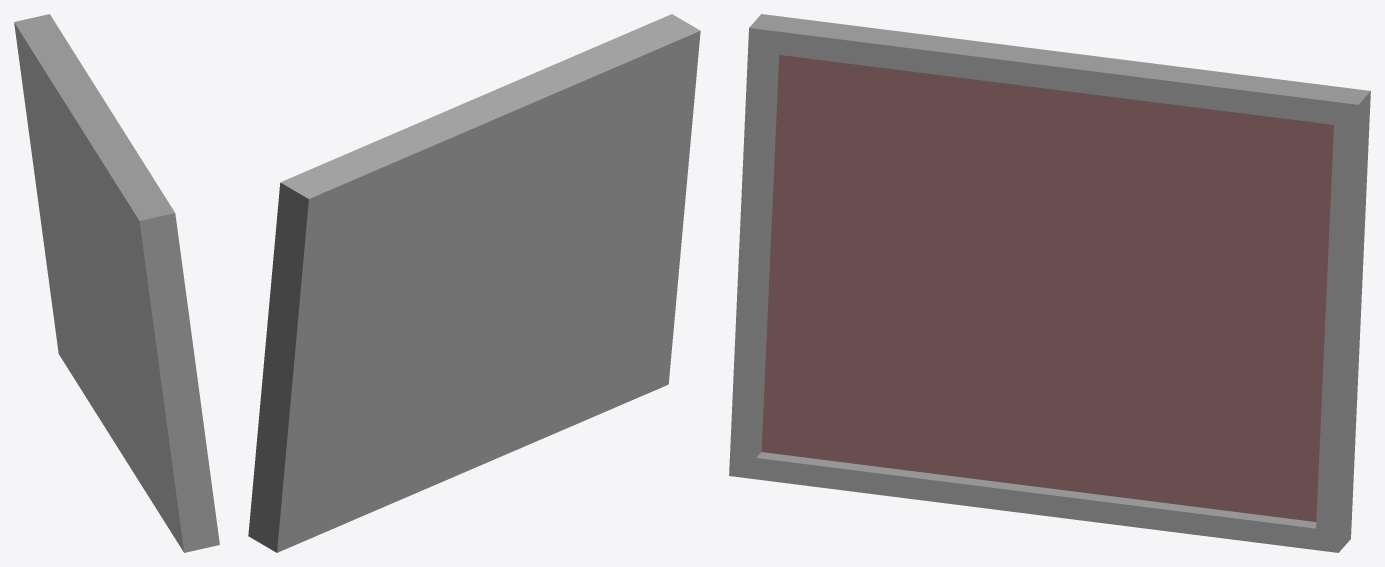
Rendered from picframe.fbx.
3 views of the same model, side by side, from view 1: azimuth 30°, elevation 25°; view 2: azimuth 150°, elevation 25°; view 3: azimuth 270°, elevation 25° (orthographic). The views are drawn at different scales.
Parts seen in each view (by area): view 1: pCube95; view 2: pCube95; view 3: pCube95.
Boxes of the visible parts, x1,y1,x2,y2 form: pCube95: (14,14,219,552); pCube95: (248,14,700,552); pCube95: (729,14,1370,552).
Size of the model in its own units: 0.9746 by 1.76 by 2.34.
